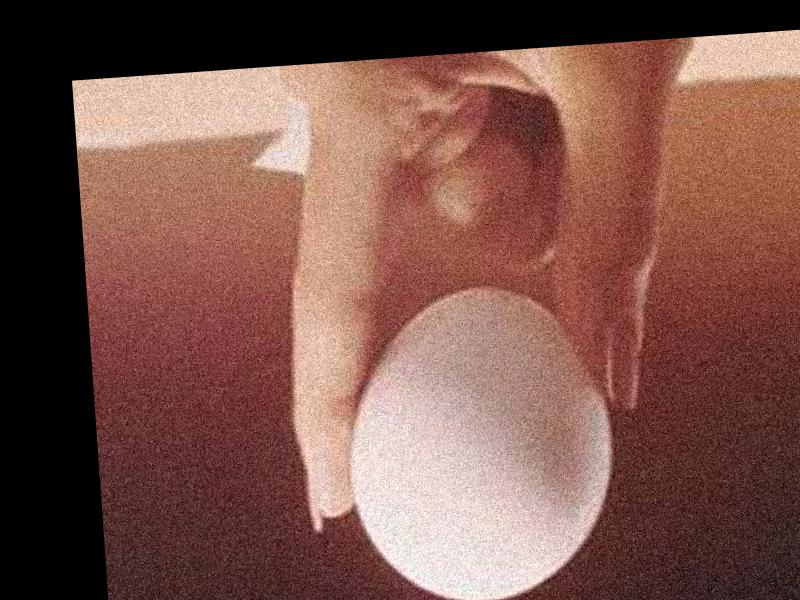Eggs: (338, 274, 626, 600)
